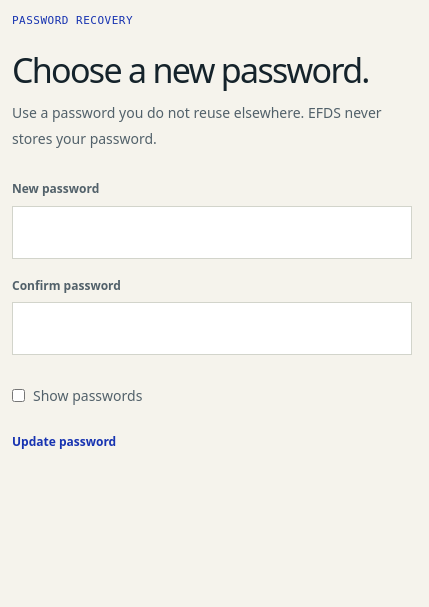
Test: password reset feedback › does not claim the password failed when only the workspace check fails afterward
In the password field labelled "New password": (212, 232) [12,206,412,259], type "a-new-password-123"
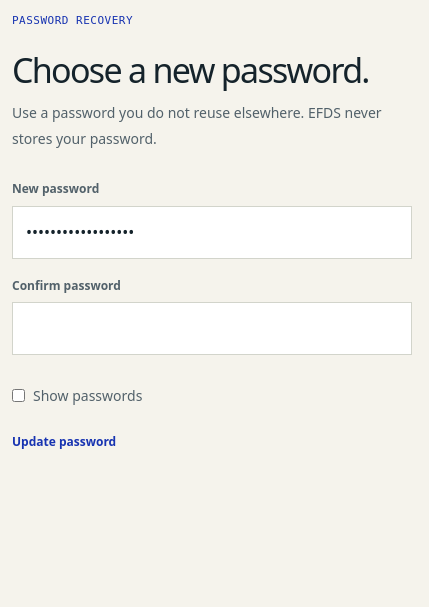
In the password field labelled "Confirm password": (212, 329) [12,302,412,355], type "a-new-password-123"
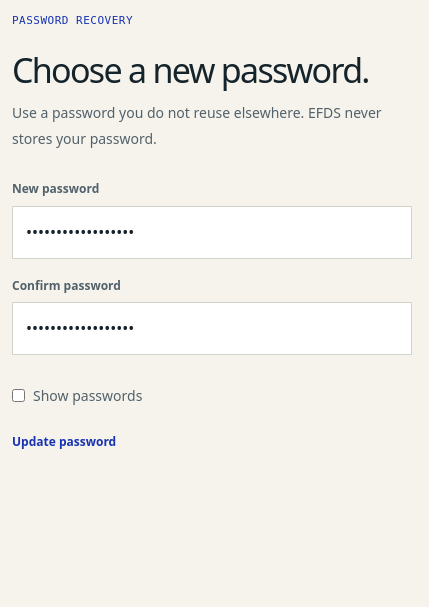
Click the button "Update password": (64, 442) [12,420,116,464]
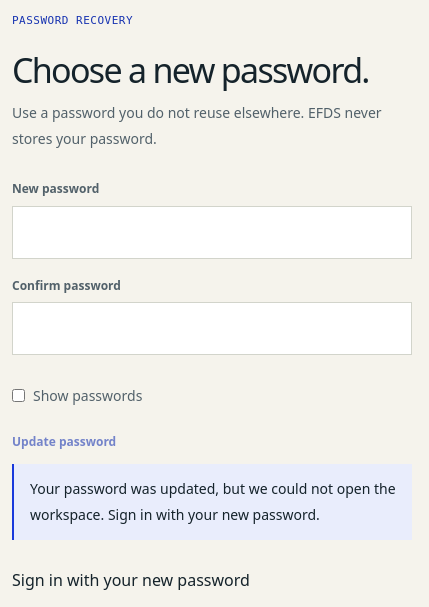
Expected: the message shows "Your password was updated, but we could not open the workspace. Sign in with your new password.", [30,479,396,524]
Expected: the button "Update password" is disabled, [12,420,116,464]
